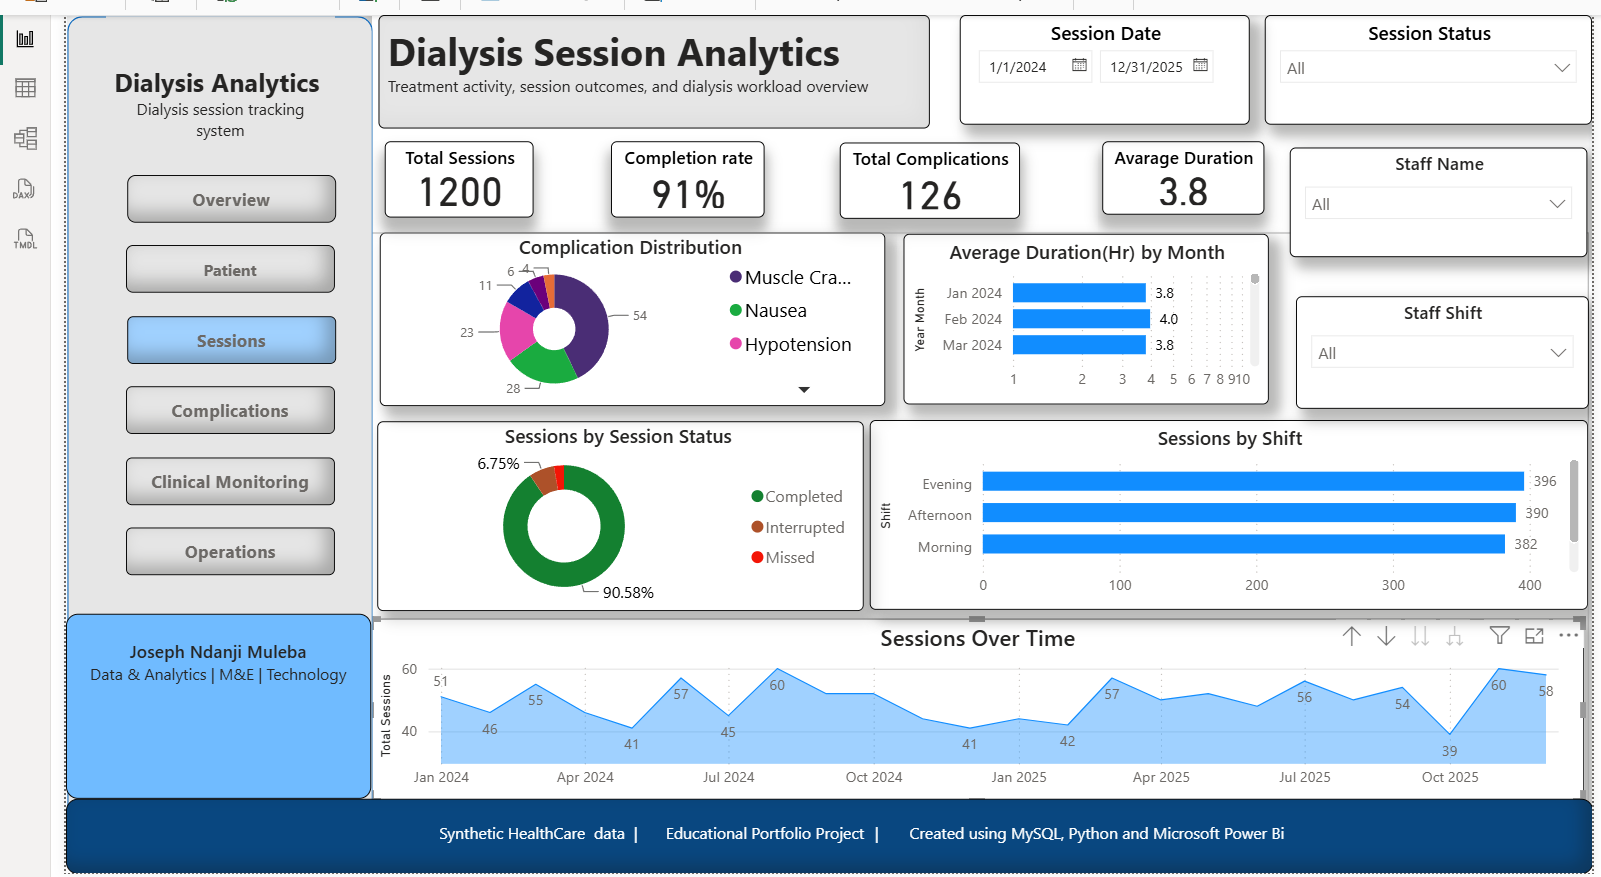

What the dashboard file says about the page in this screenshot:
{"tool":"powerbi","page":{"name":"Dashboard","canvas":[1280,720],"ordinal":0},"visuals":[{"type":"textbox","title":"Heading (overview)","box":[259.2,0,485.3,92.3],"z":0,"group":"g3"},{"type":"slicer","title":"Session Status","fields":{"Values":["dialysis_tracker sessions.session_status"]},"box":[1004,0,273.2,92],"z":0,"group":"g7"},{"type":"shape","title":"Menu Background","box":[1.1,1,256.3,695.3],"z":0,"group":"g6"},{"type":"card","title":"Total Patient","fields":{"Values":["Dashboard Measures.Total Patients"]},"box":[262,106.2,116.7,81.8],"z":0,"group":"g2"},{"type":"group","id":"g1","title":"Charts","box":[263.8,215.1,1011,424.7],"z":0,"group":"g5"},{"type":"donutChart","title":"Machine Operational Status","fields":{"Category":["dialysis_tracker dialysis_machines.status"],"Y":["CountNonNull(dialysis_tracker dialysis_machines.machine_id)"]},"box":[596.4,215.7,331.9,195.6],"z":0,"group":"g1"},{"type":"actionButton","title":"Operation Button","box":[50,430.2,175,40],"z":0,"group":"g4"},{"type":"actionButton","title":"Complications Button","box":[50,312,175,40],"z":500,"group":"g4"},{"type":"slicer","title":"Session Date","fields":{"Values":["dialysis_tracker sessions.session_date"]},"box":[749.2,0,242.4,92],"z":1000,"group":"g7"},{"type":"group","id":"g2","title":"KPIs","box":[262,106,1010.9,82.1],"z":1000,"group":"g5"},{"type":"card","title":"Total Sessions","fields":{"Values":["Dashboard Measures.Total Sessions"]},"box":[393.5,106.2,130.6,81.8],"z":1000,"group":"g2"},{"type":"actionButton","title":"Clinical Button","box":[50,371.1,175,40],"z":1000,"group":"g4"},{"type":"areaChart","title":"Dialysis Sessions Over Time","fields":{"Category":["dialysis_tracker sessions.session_date.Variation.Date Hierarchy.Year","dialysis_tracker sessions.session_date.Variation.Date Hierarchy.Month","dialysis_tracker sessions.session_date.Variation.Date Hierarchy.Day"],"Series":["dialysis_tracker sessions.session_status"],"Y":["Dashboard Measures.Total Sessions"]},"box":[267.8,421.7,1007,218.1],"z":1000,"group":"g1"},{"type":"textbox","title":"footer","box":[0,657,1280.6,63.4],"z":1000,"group":"g6"},{"type":"group","id":"g3","title":"Header","box":[259.2,0,485.3,92.3],"z":2000,"group":"g5"},{"type":"card","title":"Active Patients","fields":{"Values":["Dashboard Measures.Active Patients"]},"box":[1001.1,106,147.7,81],"z":2000,"group":"g2"},{"type":"donutChart","title":"Session Status Distribution","fields":{"Category":["dialysis_tracker sessions.session_status"],"Y":["Dashboard Measures.Total Sessions"]},"box":[943.4,215.1,331,195],"z":2000,"group":"g1"},{"type":"actionButton","title":"Sessions Button","box":[50.8,252.7,175,40.3],"z":2000,"group":"g4"},{"type":"textbox","title":"Joseph intro","box":[0,502.1,255.8,155.2],"z":2000,"group":"g6"},{"type":"card","title":"Total Sessions","fields":{"Values":["Dashboard Measures.Total Machines"]},"box":[851.5,106.2,127.1,81.8],"z":3000,"group":"g2"},{"type":"group","id":"g4","title":"Buttons","box":[50,134.5,175.8,335.7],"z":3000,"group":"g6"},{"type":"actionButton","title":"Patient Button","box":[50,193.6,175,40],"z":3000,"group":"g4"},{"type":"donutChart","title":"Patient Infection Status","fields":{"Category":["dialysis_tracker patients.infection_status"],"Y":["Dashboard Measures.Total Patients"]},"box":[263.8,215.8,317.5,195],"z":3000,"group":"g1"},{"type":"textbox","title":"Menu intro","box":[33.3,1,192,129.9],"z":4000,"group":"g6"},{"type":"card","title":"Total Staff","fields":{"Values":["Dashboard Measures.Total Staff"]},"box":[1156.2,106.2,116.7,81.8],"z":4000,"group":"g2"},{"type":"actionButton","title":"Overview Button","box":[50.7,134.5,175,40],"z":4000,"group":"g4"},{"type":"card","title":"Average Dialysis session (Hr)","fields":{"Values":["Dashboard Measures.Average Dialysis Duration"]},"box":[696.9,106.2,139.8,81.9],"z":5000,"group":"g2"},{"type":"group","id":"g5","title":"Overview Page","box":[259.2,0,1015.6,639.8],"z":6000},{"type":"card","title":"Completion Rate","fields":{"Values":["Dashboard Measures.Session Completion Rate"]},"box":[538.8,106.2,143.3,81.8],"z":6000,"group":"g2"},{"type":"group","id":"g6","title":"Menu","box":[0,1,1280.6,719.4],"z":11501},{"type":"group","id":"g7","title":"General slicers","box":[749.2,0,528,92],"z":12001}]}

Visuals, with their boxes on the page's 1280x720 design canvas (x1, y1, x2, y2). These are canvas units, not pixel positions in the 1601x877 screenshot, which may show the page scaled, cropped or inside an application window:
"Heading (overview)" textbox: x1=259 y1=0 x2=744 y2=92
"Session Status" slicer: x1=1004 y1=0 x2=1277 y2=92
"Menu Background" shape: x1=1 y1=1 x2=257 y2=696
"Total Patient" card: x1=262 y1=106 x2=379 y2=188
"Charts" group: x1=264 y1=215 x2=1275 y2=640
"Machine Operational Status" donutChart: x1=596 y1=216 x2=928 y2=411
"Operation Button" actionButton: x1=50 y1=430 x2=225 y2=470
"Complications Button" actionButton: x1=50 y1=312 x2=225 y2=352
"Session Date" slicer: x1=749 y1=0 x2=992 y2=92
"KPIs" group: x1=262 y1=106 x2=1273 y2=188
"Total Sessions" card: x1=394 y1=106 x2=524 y2=188
"Clinical Button" actionButton: x1=50 y1=371 x2=225 y2=411
"Dialysis Sessions Over Time" areaChart: x1=268 y1=422 x2=1275 y2=640
"footer" textbox: x1=0 y1=657 x2=1281 y2=720
"Header" group: x1=259 y1=0 x2=744 y2=92
"Active Patients" card: x1=1001 y1=106 x2=1149 y2=187
"Session Status Distribution" donutChart: x1=943 y1=215 x2=1274 y2=410
"Sessions Button" actionButton: x1=51 y1=253 x2=226 y2=293
"Joseph intro" textbox: x1=0 y1=502 x2=256 y2=657
"Total Sessions" card: x1=852 y1=106 x2=979 y2=188
"Buttons" group: x1=50 y1=134 x2=226 y2=470
"Patient Button" actionButton: x1=50 y1=194 x2=225 y2=234
"Patient Infection Status" donutChart: x1=264 y1=216 x2=581 y2=411
"Menu intro" textbox: x1=33 y1=1 x2=225 y2=131
"Total Staff" card: x1=1156 y1=106 x2=1273 y2=188
"Overview Button" actionButton: x1=51 y1=134 x2=226 y2=174
"Average Dialysis session (Hr)" card: x1=697 y1=106 x2=837 y2=188
"Overview Page" group: x1=259 y1=0 x2=1275 y2=640
"Completion Rate" card: x1=539 y1=106 x2=682 y2=188
"Menu" group: x1=0 y1=1 x2=1281 y2=720
"General slicers" group: x1=749 y1=0 x2=1277 y2=92
